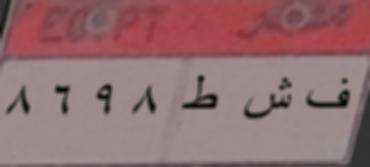6: (48, 77, 80, 122)
8: (128, 81, 165, 118), (2, 78, 34, 120)
9: (89, 79, 120, 118)
Taa: (182, 70, 224, 112)
faa: (302, 73, 355, 112)
sheen: (240, 71, 296, 125)
